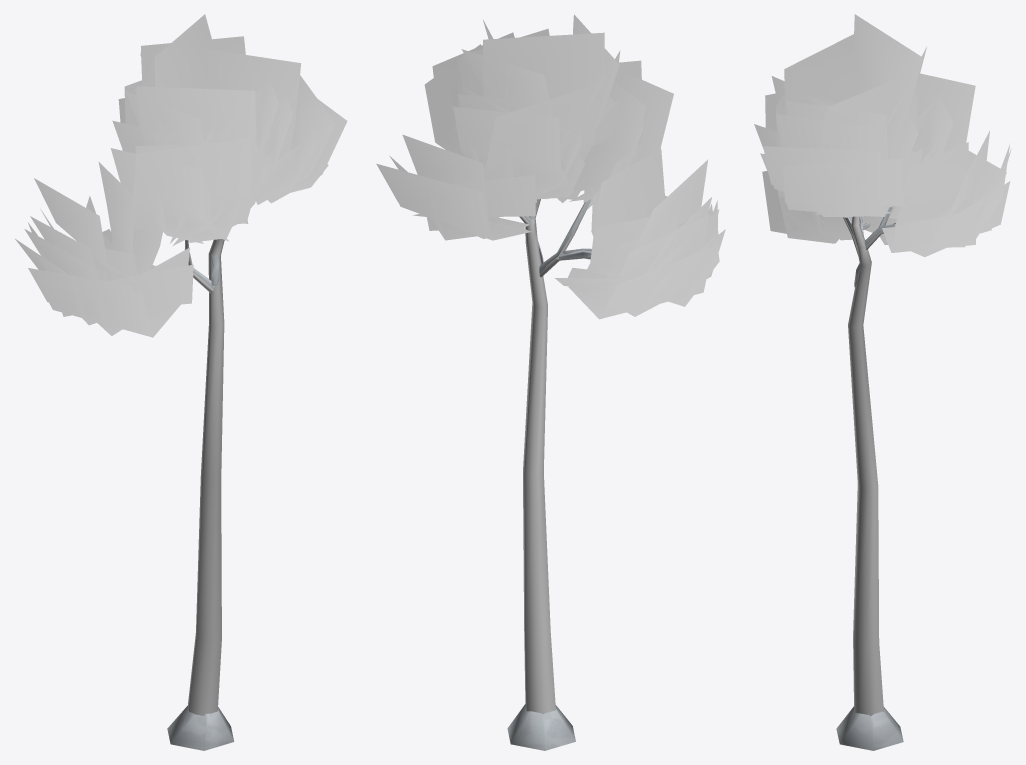
File: Tree_Small_1_Tall_Snow.fbx
The picture shows the model from 3 angles, left to right: view 1: azimuth 30°, elevation 25°; view 2: azimuth 150°, elevation 25°; view 3: azimuth 270°, elevation 25°; orthographic projection. The views are drawn at different scales.
Visible parts, largest first — view 1: Tree_Small_1_Snow_LOD0, Tree_Small_1_Snow_Colider; view 2: Tree_Small_1_Snow_LOD0, Tree_Small_1_Snow_Colider; view 3: Tree_Small_1_Snow_LOD0, Tree_Small_1_Snow_Colider.
Boxes of the visible parts, bbox=[...] form: Tree_Small_1_Snow_LOD0: bbox=[15, 14, 347, 750]; Tree_Small_1_Snow_Colider: bbox=[198, 239, 224, 715]; Tree_Small_1_Snow_LOD0: bbox=[376, 14, 725, 750]; Tree_Small_1_Snow_Colider: bbox=[525, 218, 555, 710]; Tree_Small_1_Snow_LOD0: bbox=[754, 14, 1011, 750]; Tree_Small_1_Snow_Colider: bbox=[849, 245, 883, 711].
Size of what is drawn, in the model's own units: 567 by 1320 by 444.
